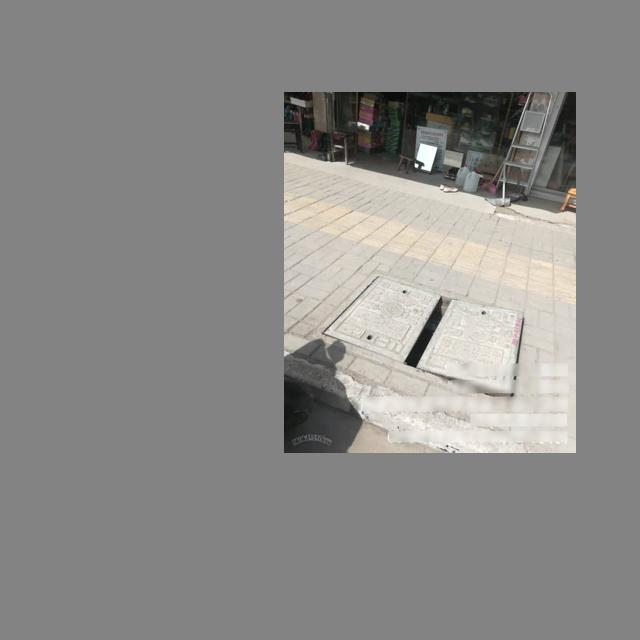uncovered: (322, 274, 525, 400)
